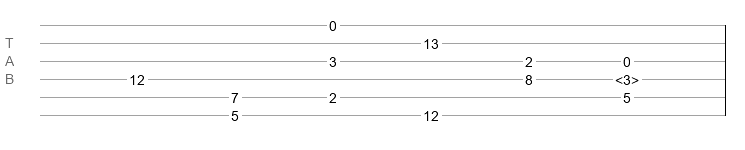0: (329, 18, 337, 28), (623, 54, 631, 64)
12: (129, 72, 145, 82), (423, 108, 439, 118)
13: (423, 36, 439, 46)
2: (329, 90, 337, 100), (525, 54, 533, 64)
3: (329, 54, 337, 64)
5: (231, 108, 239, 118), (623, 90, 631, 100)
7: (231, 90, 239, 100)
8: (525, 72, 533, 82)
harmonic: (615, 72, 639, 82)
